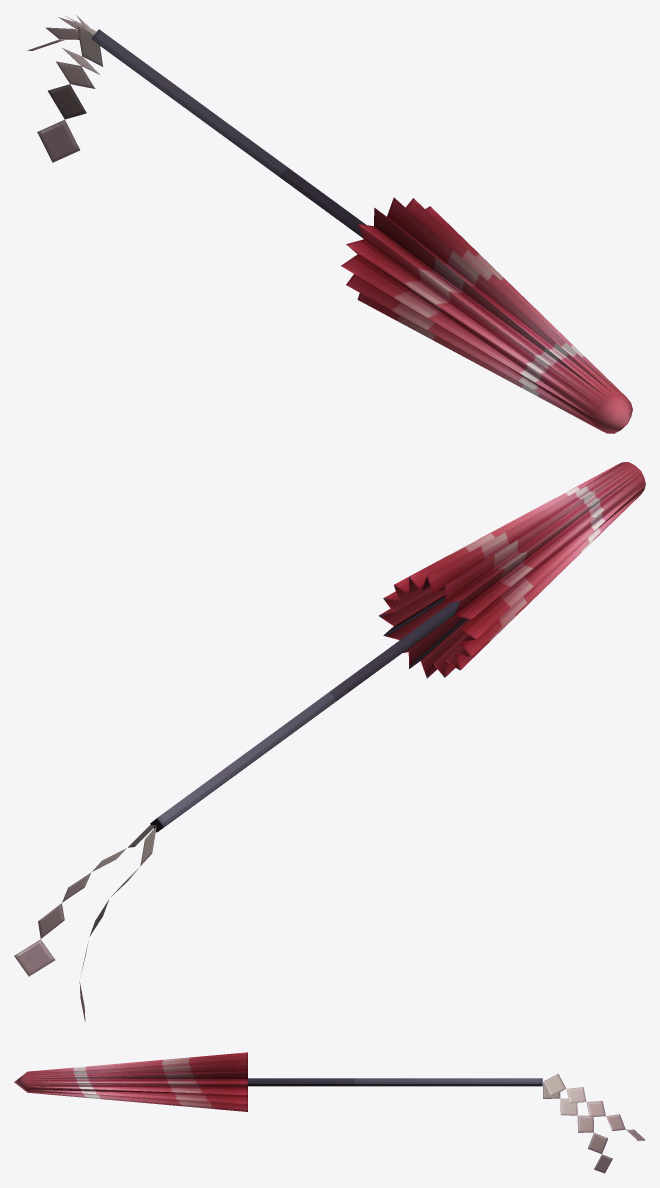
The model's file is lance0013.fbx.
3 views of the same model, one above another, from view 1: azimuth 30°, elevation 25°; view 2: azimuth 150°, elevation 25°; view 3: azimuth 270°, elevation 25° (orthographic). The views are drawn at different scales.
Visible parts, largest first — view 1: lance0013_m; view 2: lance0013_m; view 3: lance0013_m.
Part boxes in pixels (x1=…): lance0013_m: x1=27, y1=15, x2=632, y2=433; lance0013_m: x1=14, y1=462, x2=645, y2=1021; lance0013_m: x1=14, y1=1052, x2=645, y2=1173.
Size of the model in its own units: 0.1856 by 0.3588 by 1.78.
